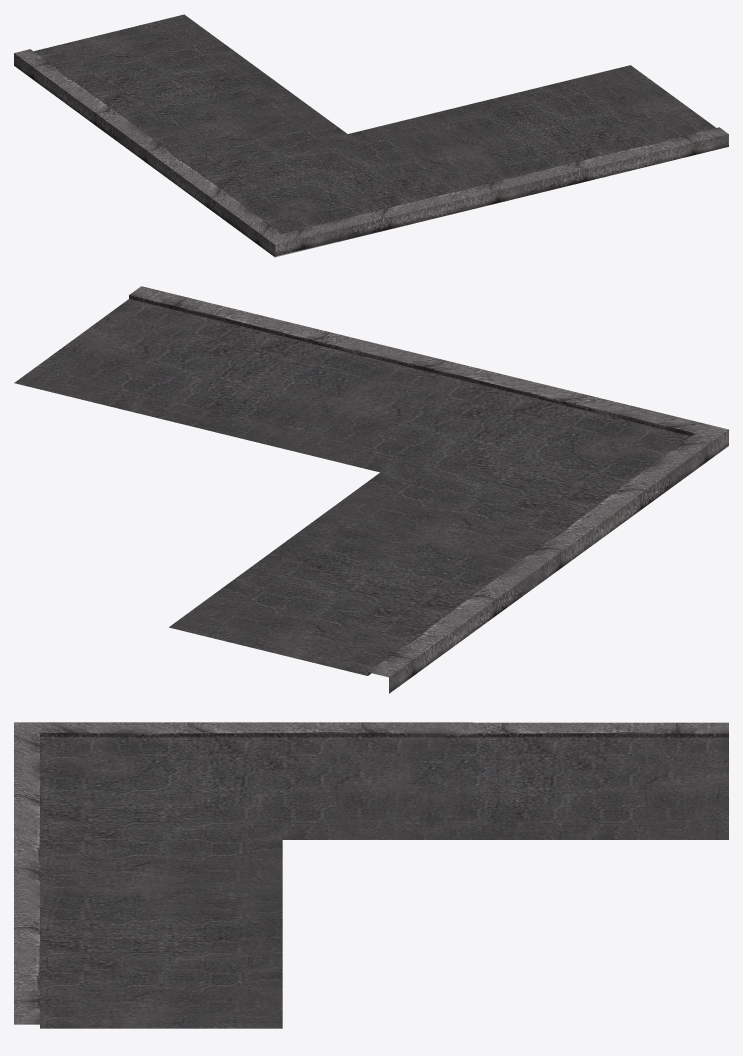
File: L path(corner).FBX
The picture shows the model from 3 angles, top to bottom: view 1: azimuth 30°, elevation 25°; view 2: azimuth 150°, elevation 25°; view 3: azimuth 270°, elevation 25°; orthographic projection. The views are drawn at different scales.
Parts seen in each view (by area): view 1: Object198; view 2: Object198; view 3: Object198.
Boxes of the visible parts, left/top/right/bottom form: Object198: left=14, top=14, right=728, bottom=257; Object198: left=14, top=286, right=728, bottom=693; Object198: left=14, top=722, right=728, bottom=1028.
Bounding box in the file's own units: 11.99 × 0.3187 × 11.99.
